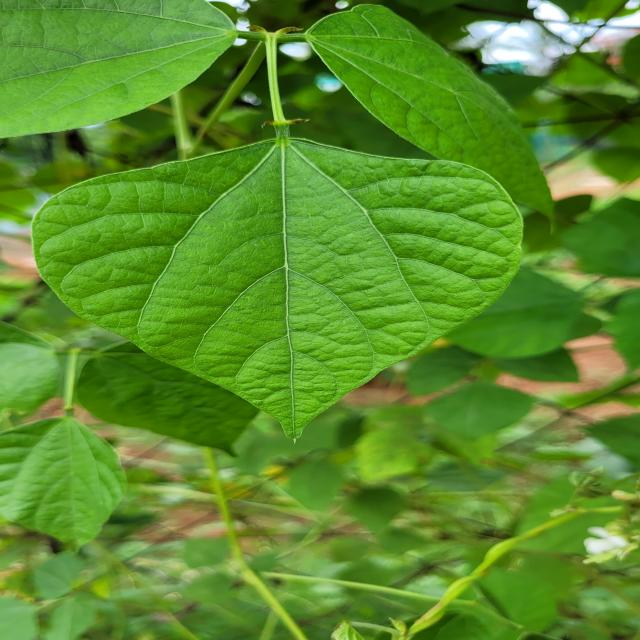Dolicos bean_healthy: (40, 140, 535, 435), (297, 8, 569, 214), (60, 324, 264, 457), (0, 414, 128, 564)
